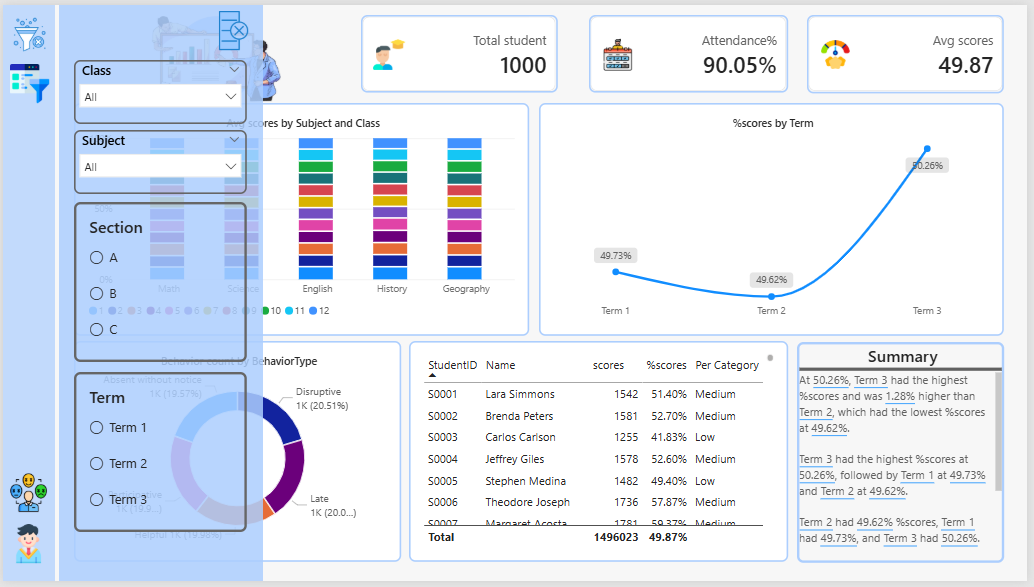

Layout of this report page (visuals, bound fields, positions):
{"tool":"powerbi","page":{"name":"Academic","canvas":[1280,720],"ordinal":0},"visuals":[{"type":"image","box":[140,12.9,251.4,111.4],"z":0},{"type":"cardVisual","fields":{"Data":["_measure.total student"]},"box":[447.1,12.9,245.7,97.1],"z":1000},{"type":"cardVisual","fields":{"Data":["_measure.Attendance%"]},"box":[732.9,12.9,248.6,97.1],"z":2000},{"type":"cardVisual","fields":{"Data":["_measure.Avg scores by subject"]},"box":[1005.4,12.7,246.2,97.5],"z":3000},{"type":"hundredPercentStackedColumnChart","fields":{"Category":["Scores csv.Subject"],"Series":["Students csv.Class"],"Y":["_measure.Avg scores"]},"box":[88.6,122.9,568.6,291.4],"z":4000},{"type":"lineChart","fields":{"Category":["Scores csv.Term"],"Y":["_measure.%scores"]},"box":[670,122.5,581.2,291.2],"z":5000},{"type":"donutChart","fields":{"Category":["Behavior csv.BehaviorType"],"Y":["_measure.Behavior count"]},"box":[88.8,420.3,408.8,276.2],"z":6000},{"type":"shape","box":[0,0,65,720],"z":7000},{"type":"tableEx","fields":{"Values":["Students csv.StudentID","Students csv.Name","_measure.Total scores","_measure.%scores","Students csv.Performance Category"]},"box":[507.5,420.3,473.8,276.2],"z":8000},{"type":"textbox","title":"Summary","box":[992.9,421.4,258.6,275.7],"z":9000},{"type":"image","box":[7.1,648.3,48.6,48.6],"z":11000},{"type":"image","box":[7.1,585.4,48.6,48.6],"z":12000},{"type":"image","box":[8.6,12.9,48.6,48.6],"z":13000},{"type":"image","box":[8.6,74.3,48.6,48.6],"z":14000}]}

Visuals, with their boxes on the page's 1280x720 design canvas (x1, y1, x2, y2). These are canvas units, not pixel positions in the 1034x587 screenshot, which may show the page scaled, cropped or inside an application window:
image: locate(140, 13, 391, 124)
cardVisual - _measure.total student: locate(447, 13, 693, 110)
cardVisual - _measure.Attendance%: locate(733, 13, 982, 110)
cardVisual - _measure.Avg scores by subject: locate(1005, 13, 1252, 110)
hundredPercentStackedColumnChart - Scores csv.Subject x Students csv.Class: locate(89, 123, 657, 414)
lineChart - Scores csv.Term x _measure.%scores: locate(670, 122, 1251, 414)
donutChart - Behavior csv.BehaviorType x _measure.Behavior count: locate(89, 420, 498, 696)
shape: locate(0, 0, 65, 720)
tableEx - Students csv.StudentID x Students csv.Name: locate(508, 420, 981, 696)
"Summary" textbox: locate(993, 421, 1252, 697)
image: locate(7, 648, 56, 697)
image: locate(7, 585, 56, 634)
image: locate(9, 13, 57, 62)
image: locate(9, 74, 57, 123)
